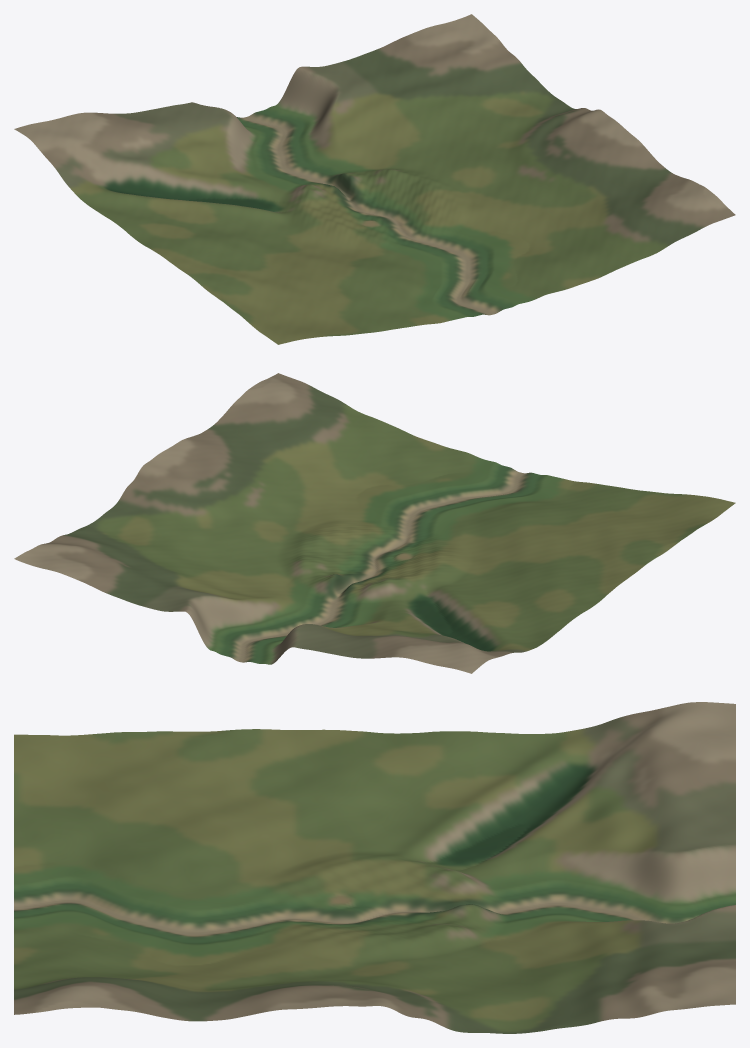
The model's file is catchment-600m-lod0.glb.
3 renders of one model, top to bottom at view 1: azimuth 30°, elevation 25°; view 2: azimuth 150°, elevation 25°; view 3: azimuth 270°, elevation 25°, orthographic. The views are drawn at different scales.
Visible parts, largest first — view 1: catchment-600m-lod0; view 2: catchment-600m-lod0; view 3: catchment-600m-lod0.
Boxes of the visible parts, bbox=[...] form: catchment-600m-lod0: bbox=[14, 14, 735, 344]; catchment-600m-lod0: bbox=[14, 373, 735, 673]; catchment-600m-lod0: bbox=[14, 702, 735, 1033].
Bounding box in the file's own units: 600 × 60.88 × 600.
Materials: 1 (1 with a texture image).
